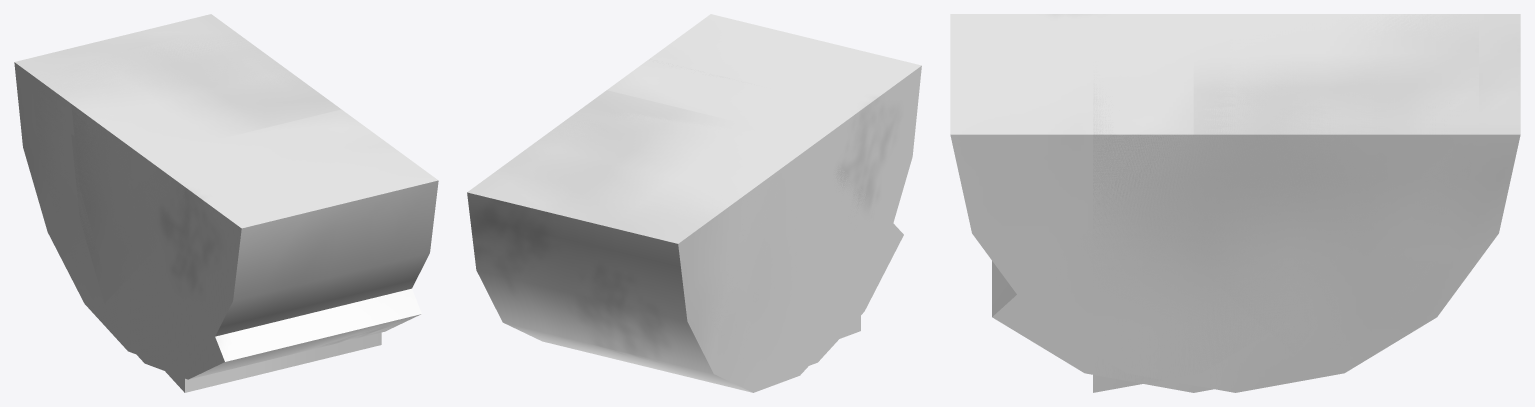
File: ProjectileSlices.fbx
3 views of the same model, side by side, from view 1: azimuth 30°, elevation 25°; view 2: azimuth 150°, elevation 25°; view 3: azimuth 270°, elevation 25° (orthographic). The views are drawn at different scales.
Parts seen in each view (by area): view 1: Slice4, Slice3, Slice2, Slice1; view 2: Slice4, Slice3; view 3: Slice4, Slice3, Slice2, Slice1.
Boxes of the visible parts, <box> form: Slice4: <box>14,14,438,367</box>; Slice3: <box>31,26,421,379</box>; Slice2: <box>71,104,381,392</box>; Slice1: <box>71,134,151,303</box>; Slice4: <box>467,14,921,392</box>; Slice3: <box>504,90,903,379</box>; Slice4: <box>950,14,1520,392</box>; Slice3: <box>992,14,1478,392</box>; Slice2: <box>1093,14,1376,392</box>; Slice1: <box>1102,172,1375,354</box>.
Size of the model in its own units: 50 by 50 by 100.
Materials: 1 (1 with a texture image).
